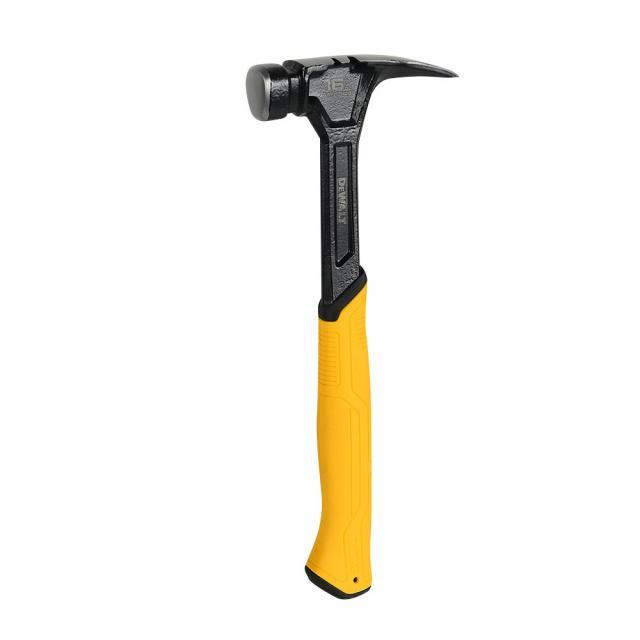hammer: (234, 34, 466, 608)
